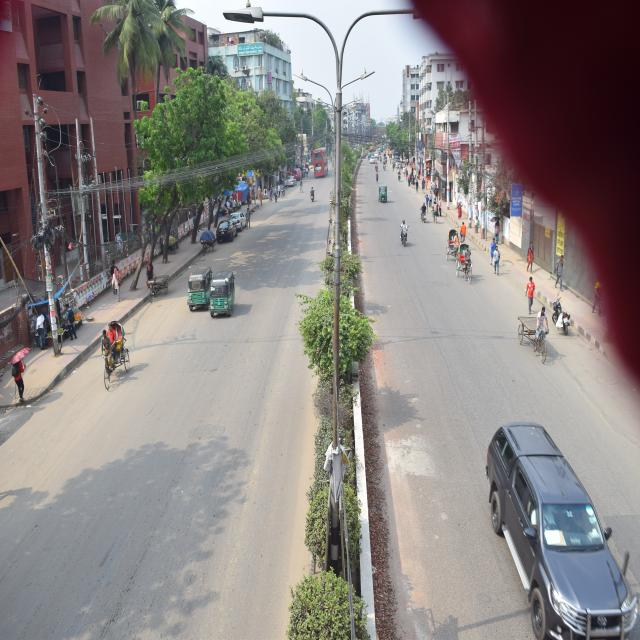bus: (308, 139, 334, 187)
car: (216, 216, 240, 247), (229, 208, 251, 233)
microbus: (478, 412, 640, 640)
motorbike: (548, 295, 574, 330), (416, 200, 429, 226), (397, 220, 409, 247), (308, 182, 319, 204)
